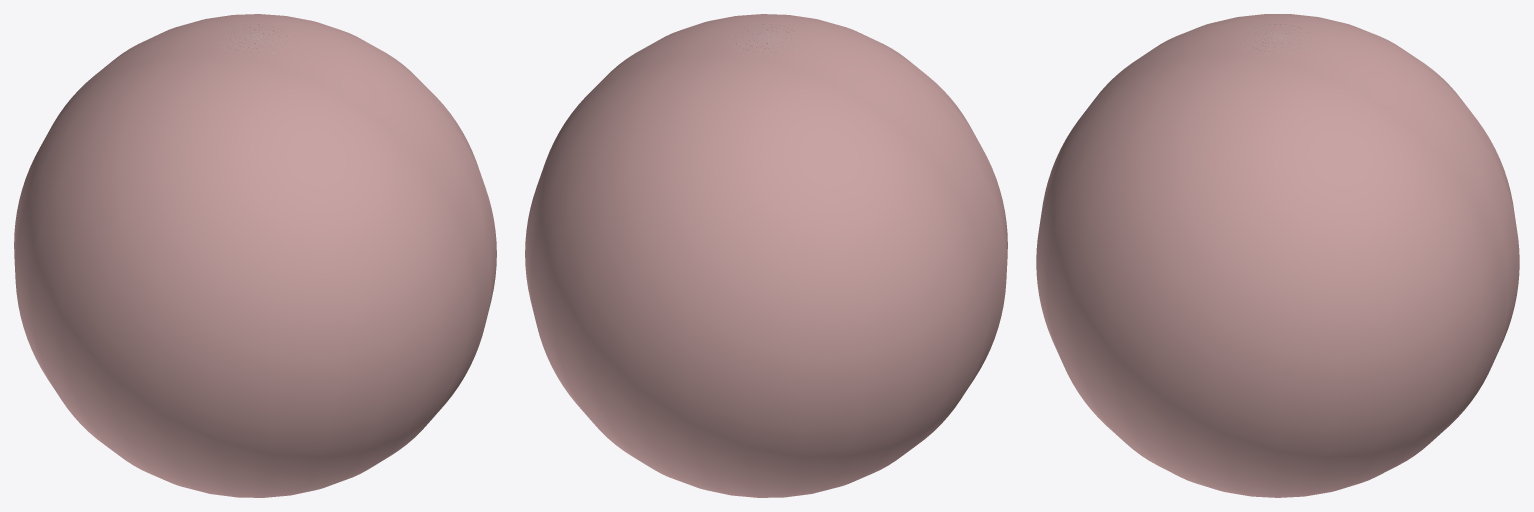
The model's file is spectacle.fbx.
The picture shows the model from 3 angles, left to right: view 1: azimuth 30°, elevation 25°; view 2: azimuth 150°, elevation 25°; view 3: azimuth 270°, elevation 25°; orthographic projection.
Visible parts, largest first — view 1: polySurface2; view 2: polySurface2; view 3: polySurface2.
Boxes of the visible parts, <box> form: polySurface2: <box>14,14,496,497</box>; polySurface2: <box>525,14,1007,497</box>; polySurface2: <box>1036,14,1519,497</box>.
Size of the model in its own units: 43338 by 43510 by 43423.
